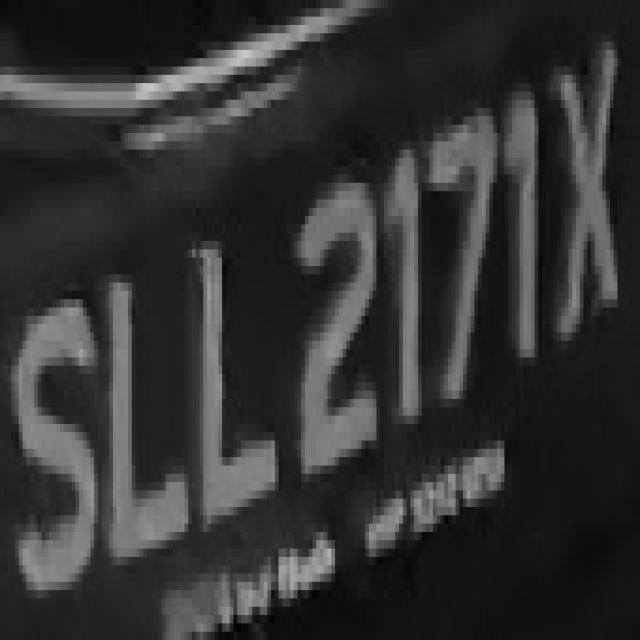1: (365, 108, 429, 432), (494, 92, 554, 390)
2: (294, 175, 380, 507)
7: (422, 66, 501, 408)
L: (102, 232, 192, 574), (192, 216, 282, 540)
S: (22, 250, 98, 624)
X: (546, 33, 632, 341)
